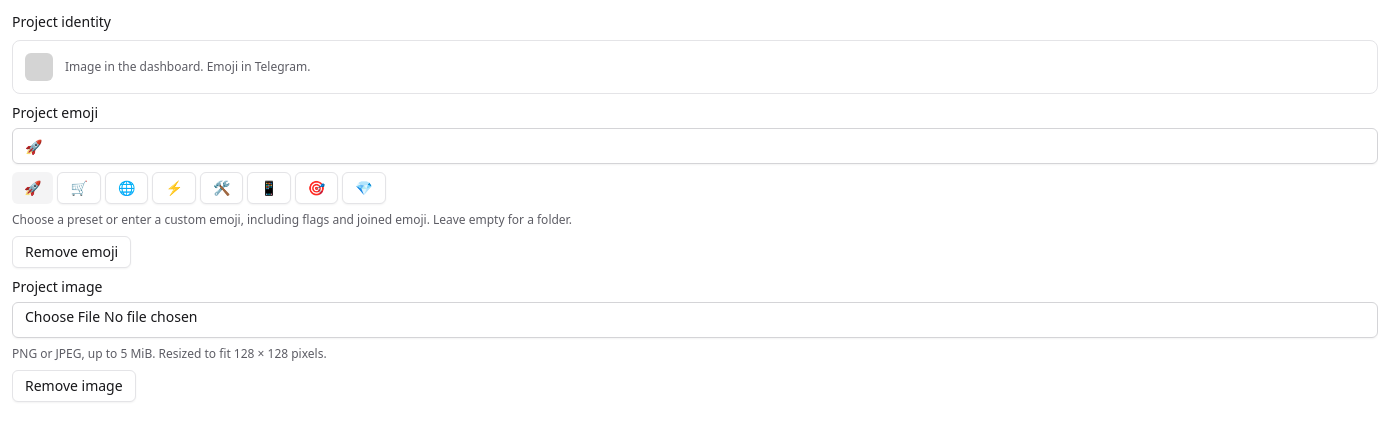
Test: project identity › accepts one emoji and rejects text or multiple emoji
The image size is (1390, 443).
Replace the text in the field labelled "Project emoji" with "🚀🚀" at (695, 146), box 12,128 -> 1378,164
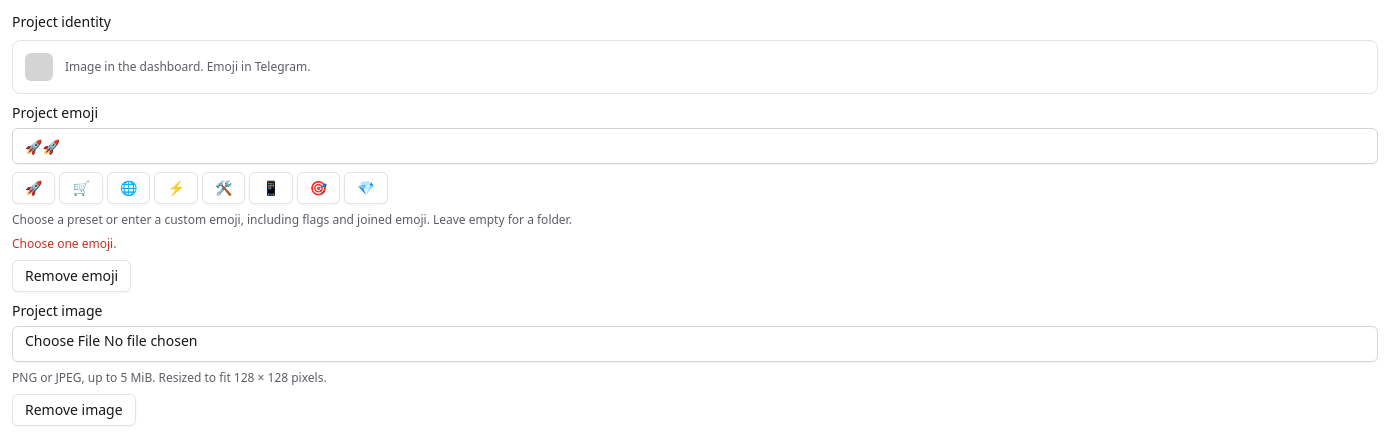
Expected: the text "Choose one emoji." is shown, 12,235 -> 116,252
